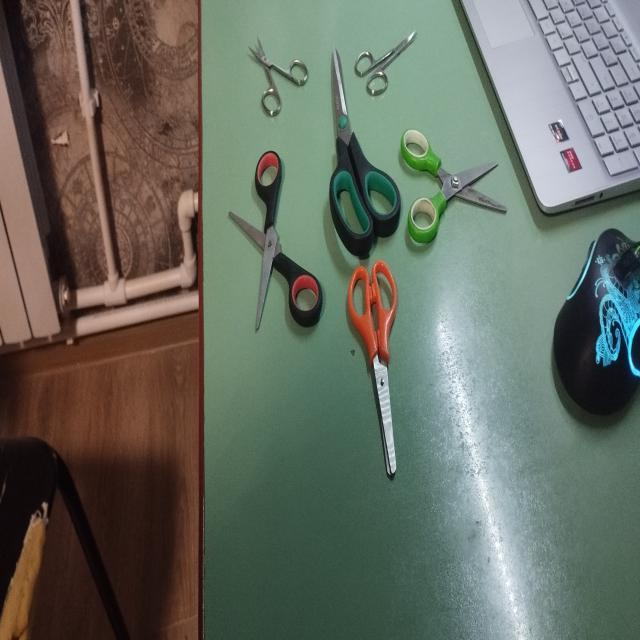tesoura: (228, 147, 324, 336), (326, 41, 403, 262), (402, 126, 508, 247), (347, 257, 398, 481), (247, 34, 309, 119), (353, 26, 417, 98)
